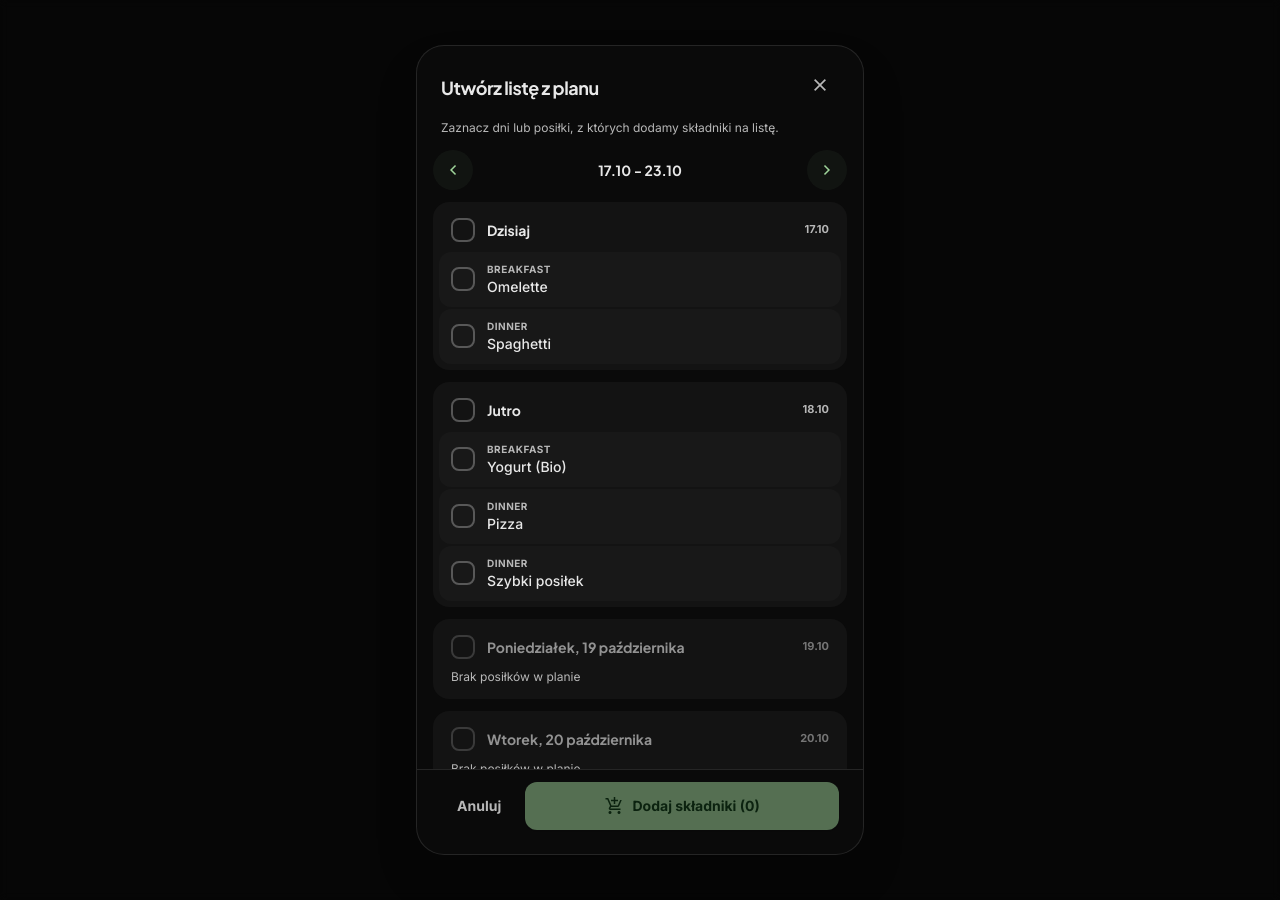
Test: ShoppingFromPlanPicker › marks a partly selected day and clears it with the day checkbox
Step 1. Click the checkbox labelled "Dinner Pizza" → (507, 506), box x1=439 y1=488 x2=841 y2=544
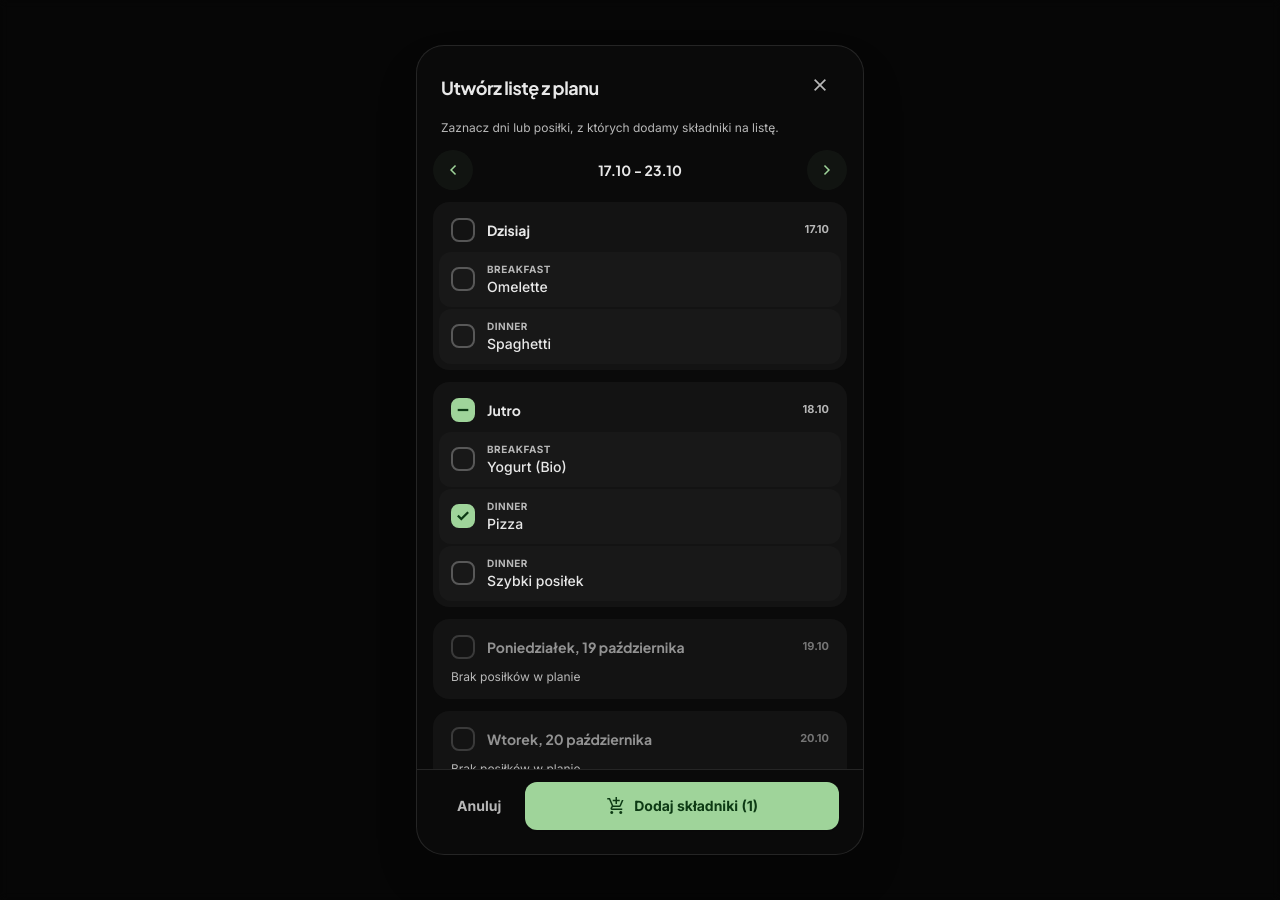
Step 2. Click the checkbox labelled "Jutro 18.10" → (504, 410), box x1=439 y1=388 x2=841 y2=432
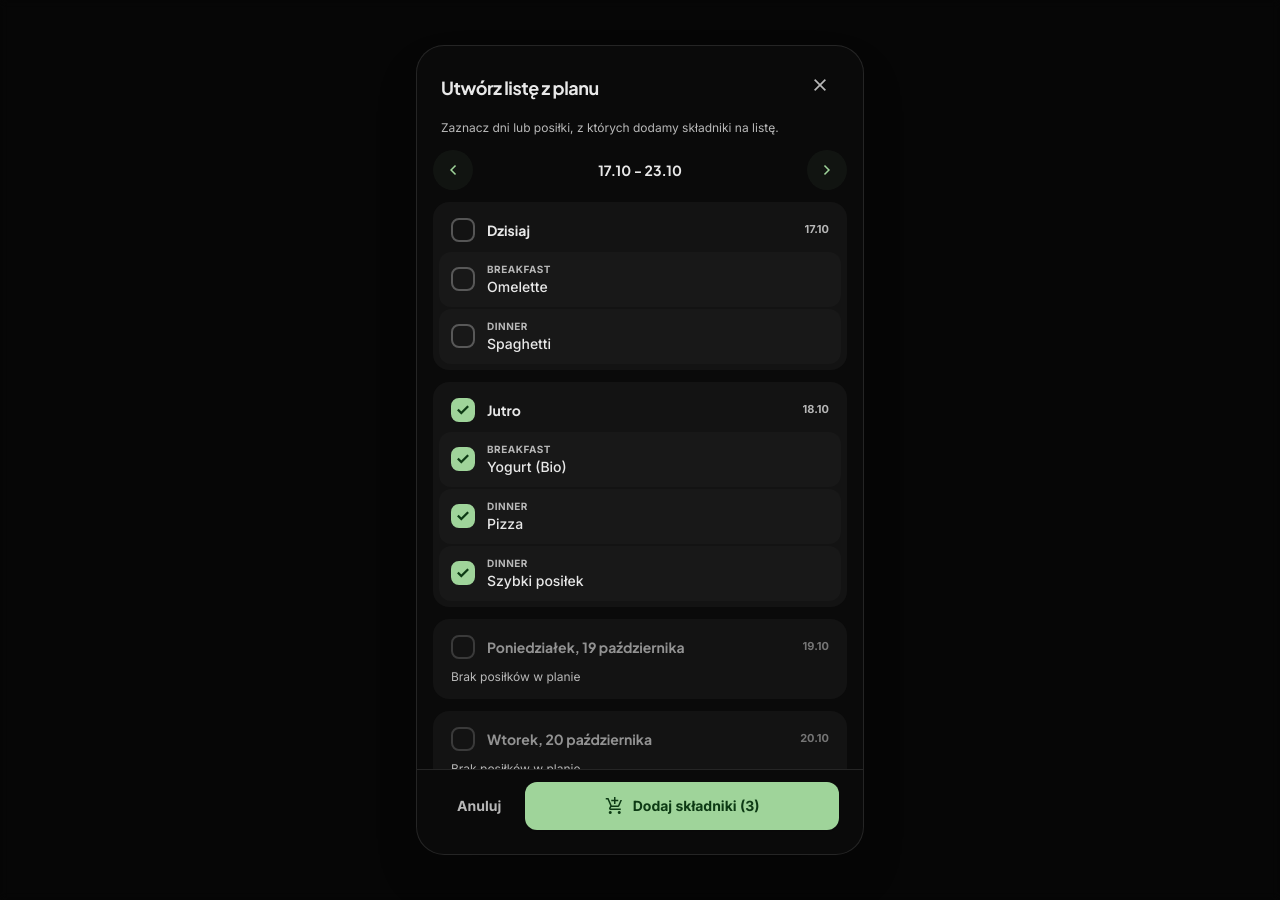
Step 3. Click the checkbox labelled "Jutro 18.10" → (504, 410), box x1=439 y1=388 x2=841 y2=432
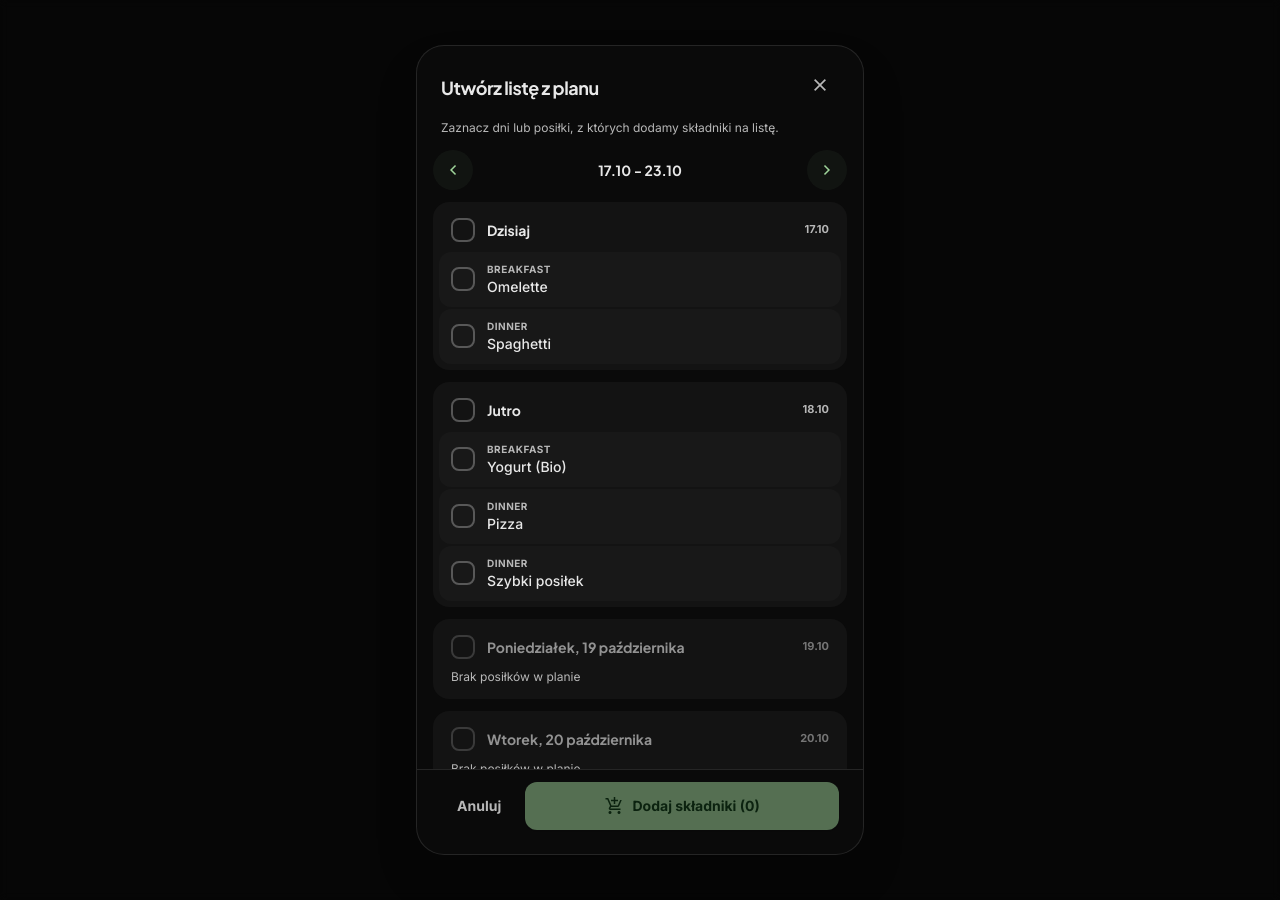
Check: the button "Dodaj składniki (0)" is disabled, box x1=525 y1=782 x2=839 y2=830
